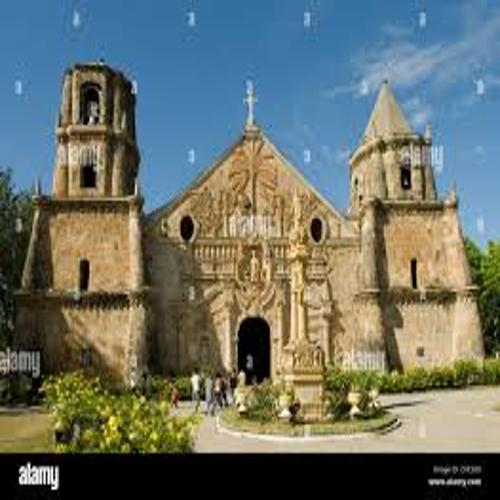Miagao Church: (4, 47, 490, 390)
